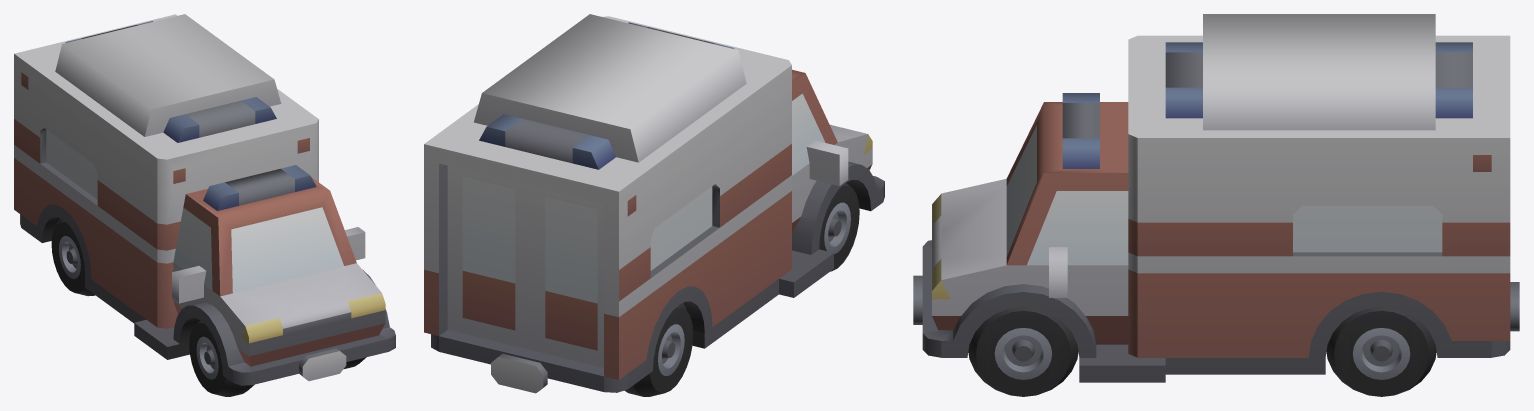
Rendered from kenney_ambulance.glb.
3 views of the same model, side by side, from view 1: azimuth 30°, elevation 25°; view 2: azimuth 150°, elevation 25°; view 3: azimuth 270°, elevation 25° (orthographic). The views are drawn at different scales.
Visible parts, largest first — view 1: body, wheel-front-right, wheel-back-right; view 2: body, door-left, door-right, wheel-back-right, wheel-front-right; view 3: body, wheel-back-left, wheel-front-left.
Boxes of the visible parts, x1,y1,x2,y2 form: body: (14, 14, 395, 385); wheel-front-right: (189, 320, 254, 396); wheel-back-right: (51, 219, 95, 296); body: (424, 14, 884, 393); door-left: (447, 165, 530, 349); door-right: (530, 186, 603, 367); wheel-back-right: (624, 304, 693, 396); wheel-front-right: (819, 183, 859, 271); body: (913, 14, 1519, 382); wheel-back-left: (1326, 307, 1436, 396); wheel-front-left: (968, 307, 1078, 396).
Bounding box in the file's own units: 1.5 × 1.8 × 3.25.
1 material, 1 textured.
